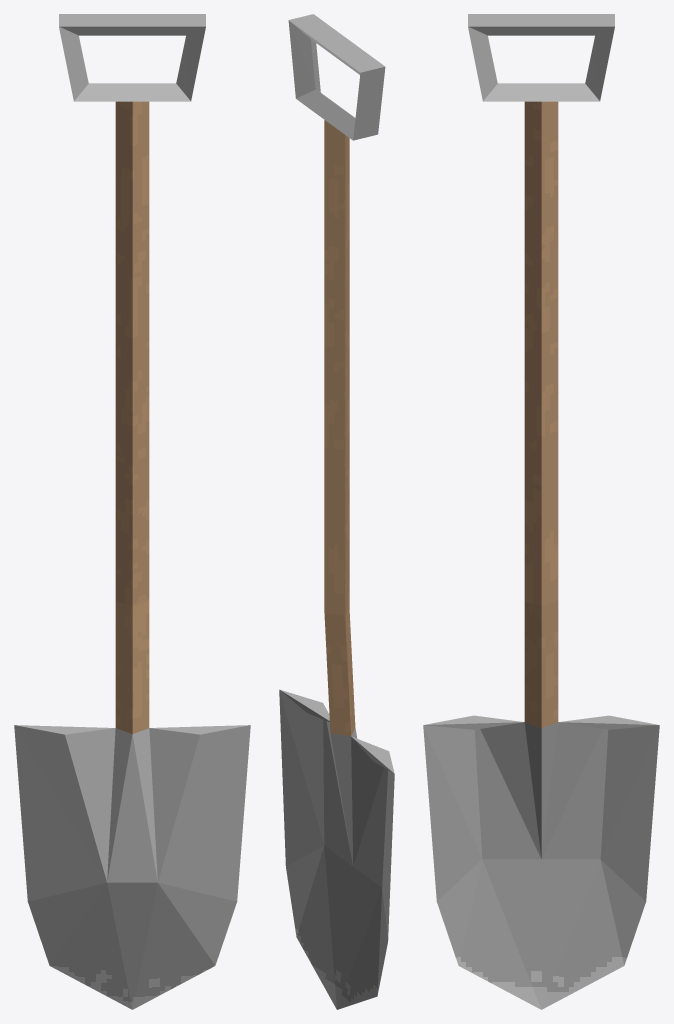
Rendered from shovel.gltf.
The picture shows the model from 3 angles, left to right: view 1: azimuth 90°, elevation 25°; view 2: azimuth 210°, elevation 25°; view 3: azimuth 270°, elevation 25°; orthographic projection. The views are drawn at different scales.
Parts seen in each view (by area): view 1: Shovel; view 2: Shovel; view 3: Shovel.
Part boxes in pixels (x1,y1,x2,y2): Shovel: (14, 14, 250, 1009); Shovel: (279, 14, 394, 1009); Shovel: (423, 14, 659, 1009).
Bounding box in the file's own units: 0.2996 × 6.48 × 1.4.
1 material, 1 textured.
